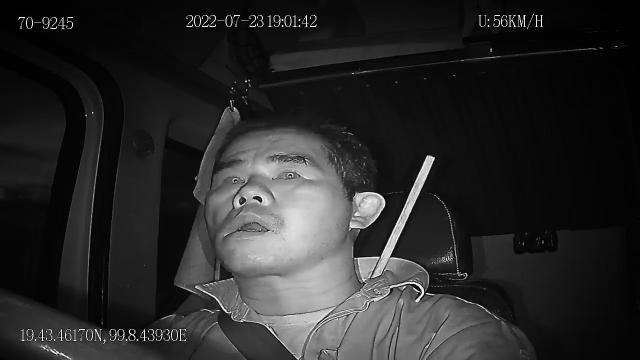SafeDriving: (265, 154, 313, 186), (214, 166, 248, 192)
Seatbelt: (216, 307, 300, 360)
